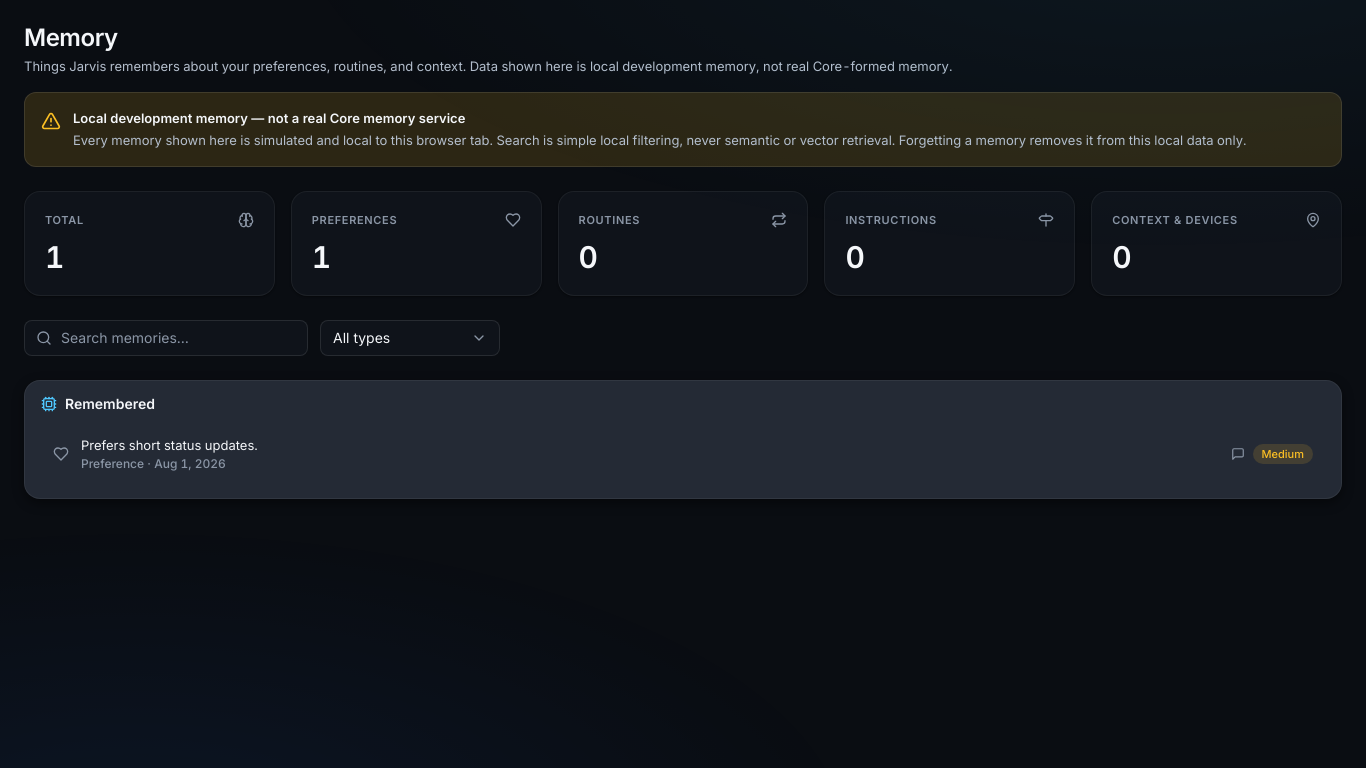
Test case: MemoryPage async states › shows a no-results state when a search/filter matches nothing
The width and height of the screenshot is (1366, 768).
Expected: the button with test id "memory-row-mem-y" is shown, [41, 426, 1325, 482]
Type "no such memory content anywhere" into the search field with test id "memory-filter-input" at point(166, 338), box [24, 320, 308, 356]
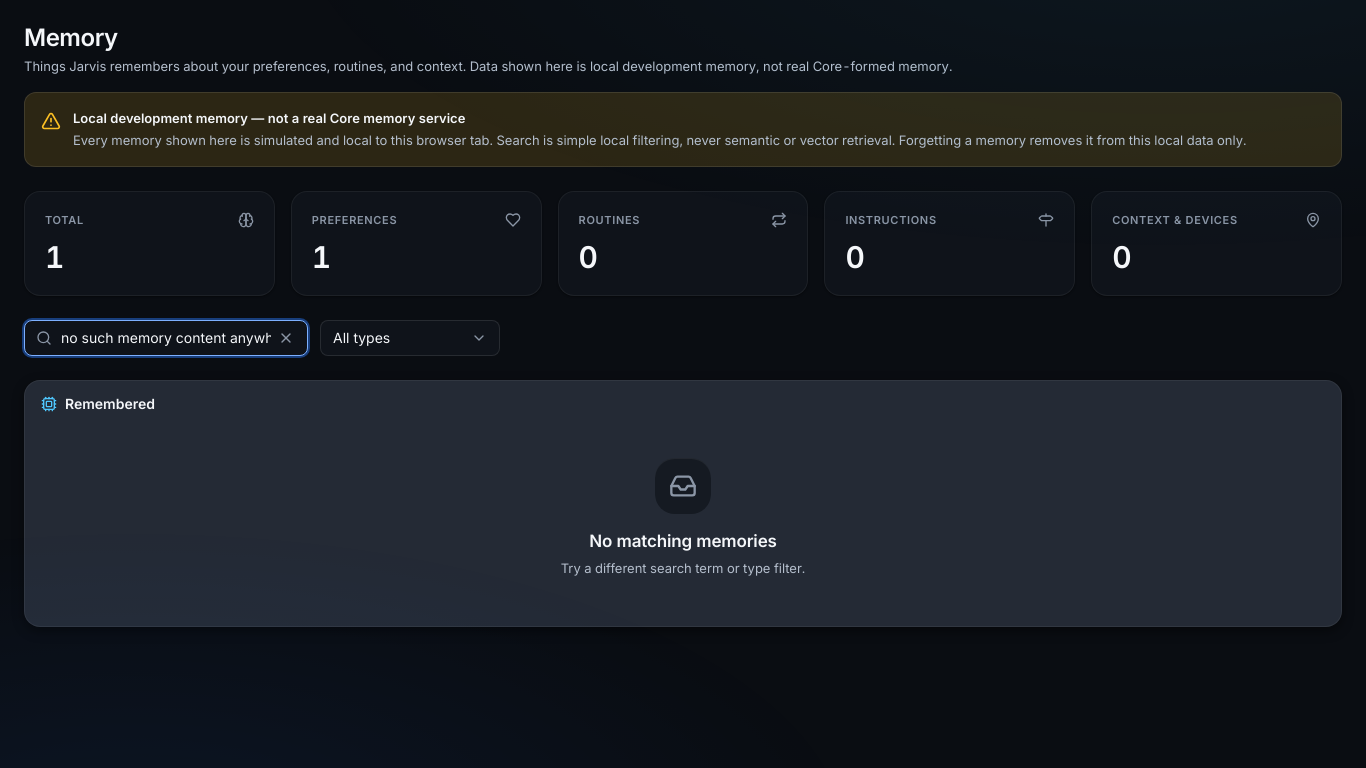
Expected: the heading "No matching memories" is shown, [589, 532, 777, 552]
